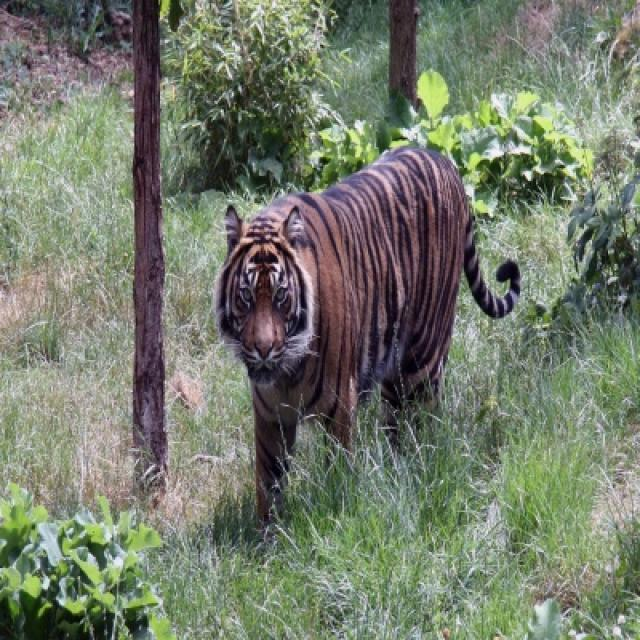Tiger: (214, 146, 520, 520)
